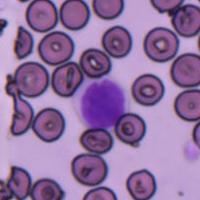L: (76, 74, 131, 130)
